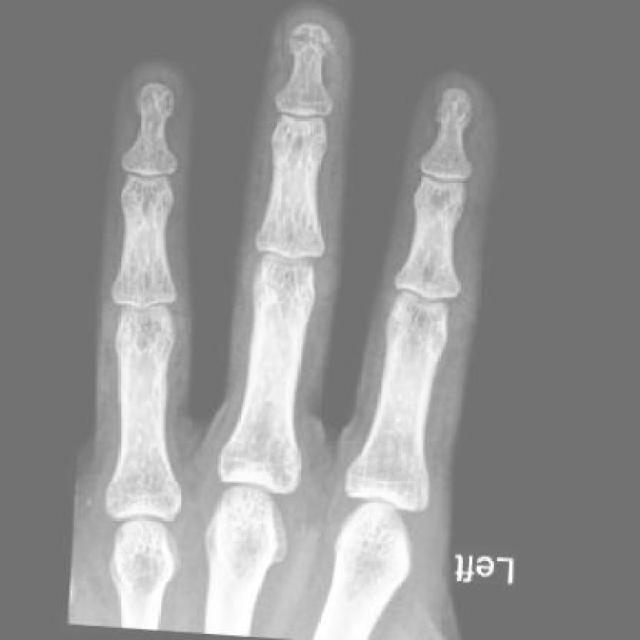Fracture: (288, 19, 336, 59)
